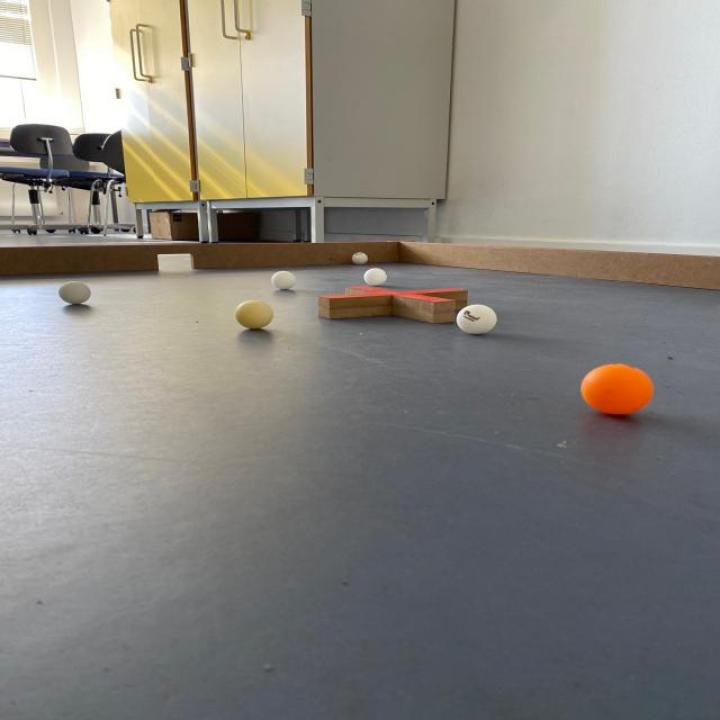orange: (580, 363, 654, 415)
white: (456, 304, 497, 335), (234, 300, 274, 330), (59, 282, 91, 304), (271, 271, 297, 290), (362, 269, 388, 286), (352, 252, 368, 266)
